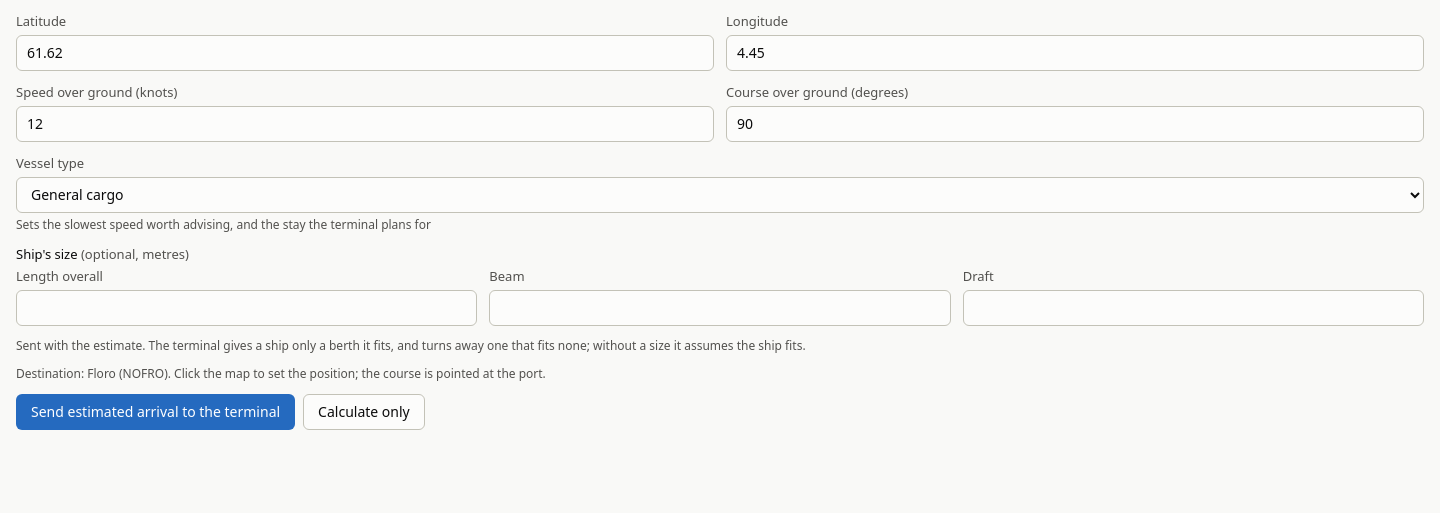
PositionForm › catches a position that cannot be right before anything is asked
Replace the text in the field labelled "Latitude" with "95" at (365, 53), box [16,35,714,71]
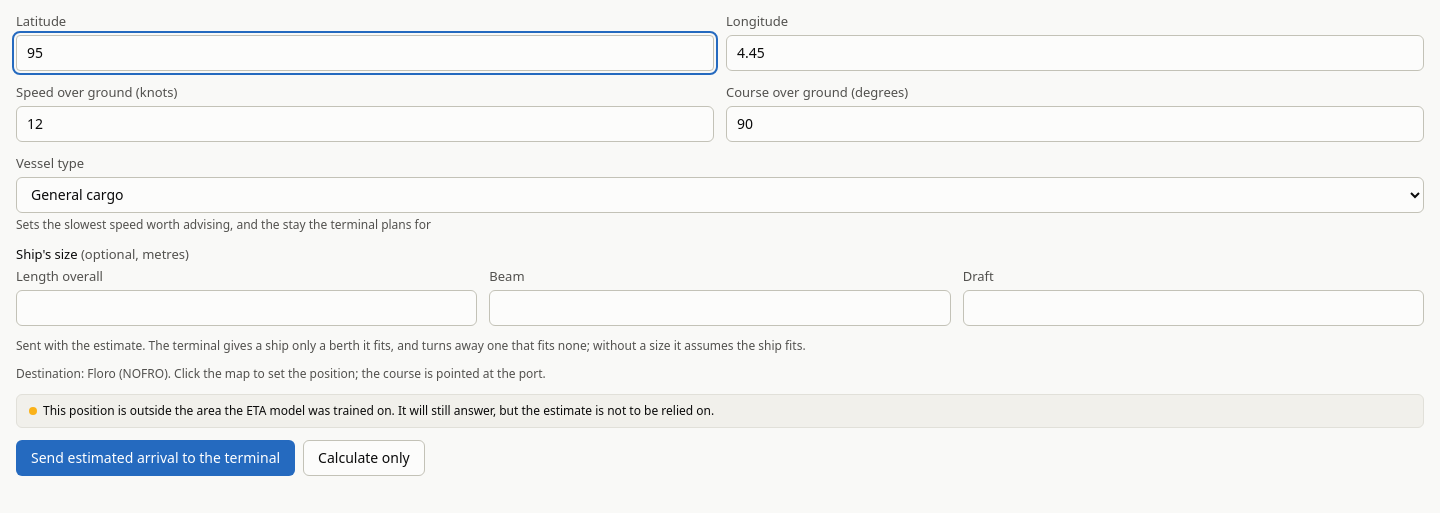
Click the button "Calculate only" at (364, 458), box [303,440,425,476]
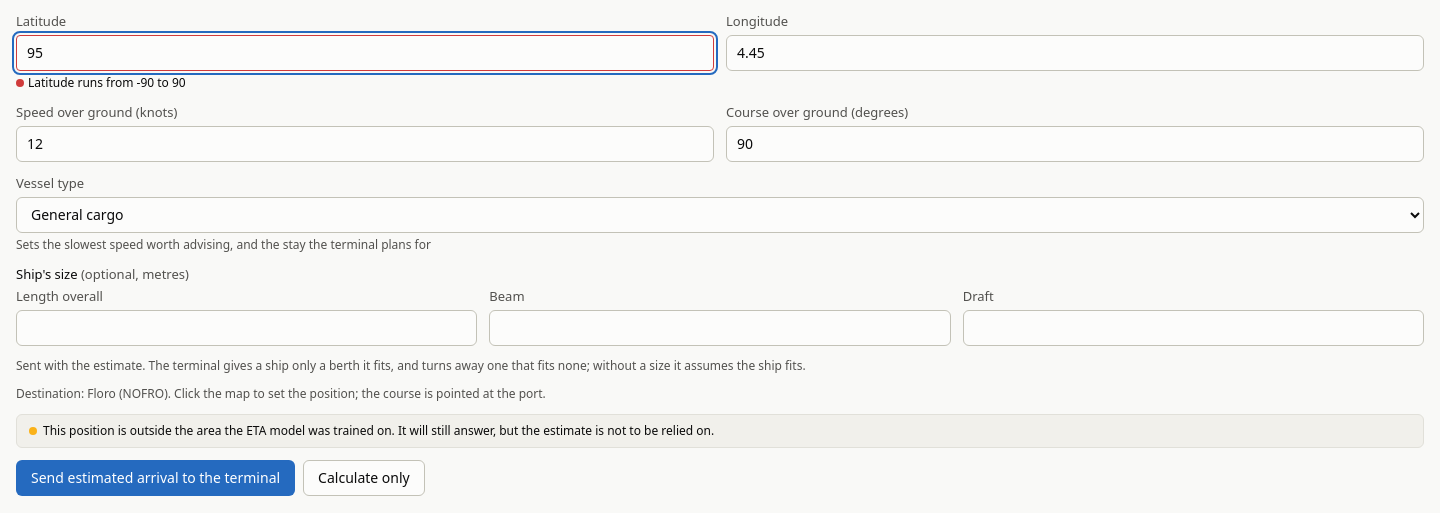
Expected: the text "Latitude runs from -90 to 90" is shown, [16,74,186,91]
